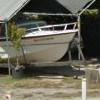Boat: (2, 18, 79, 73)
